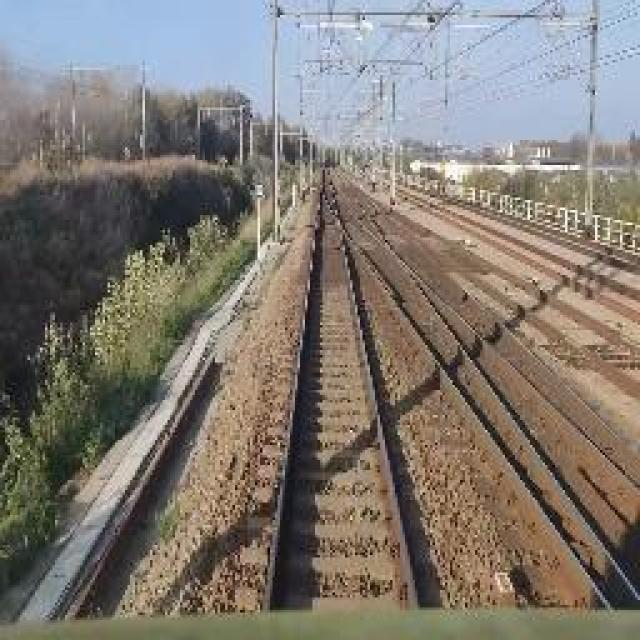rail: (237, 170, 450, 619)
